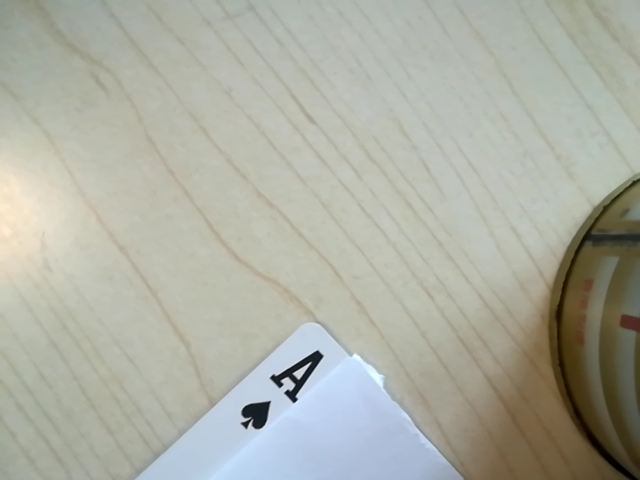ht a: (221, 342, 339, 441)
